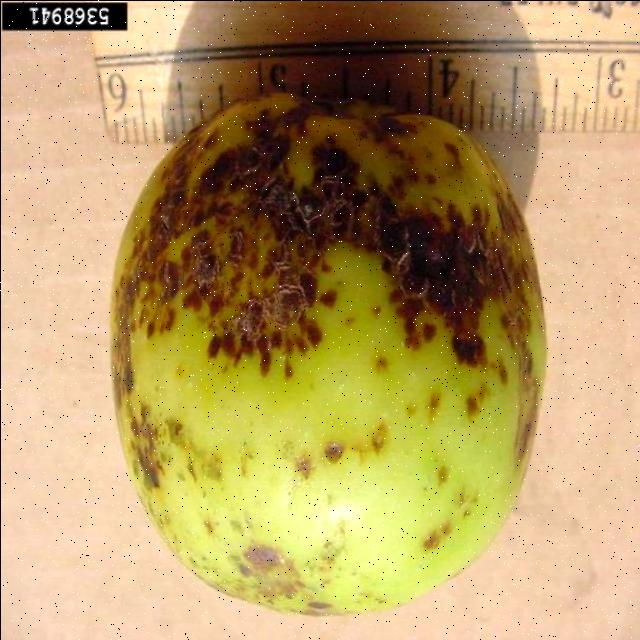BLOTCH: (87, 76, 556, 626)
